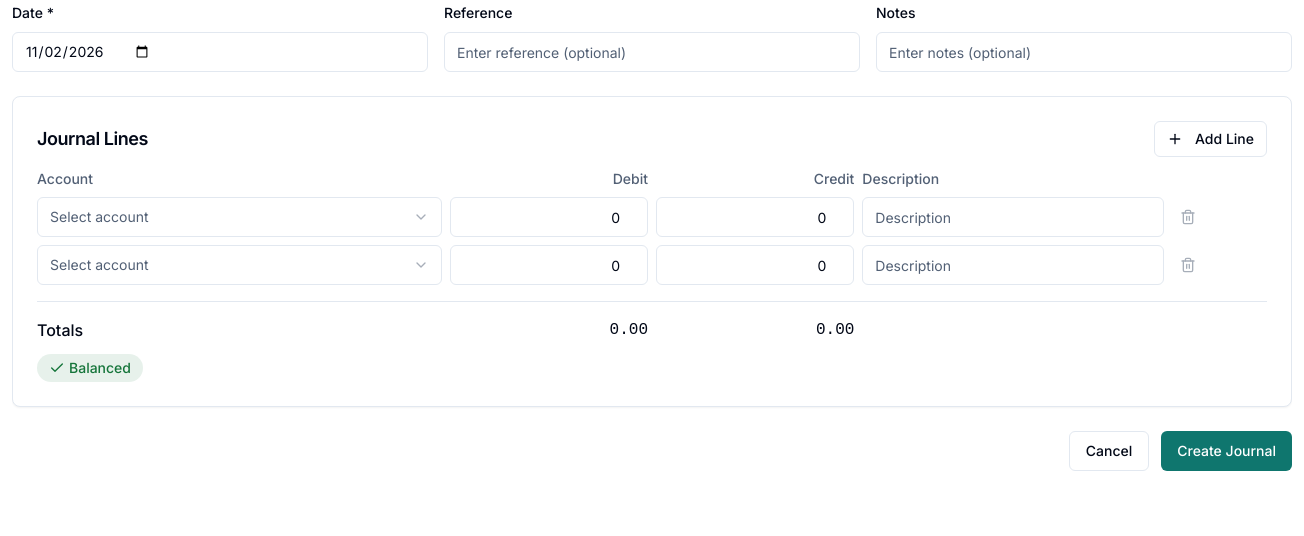
Test: JournalLinesEditor (journal and recurring template forms) › keeps two lines, clears the opposite side and shows the balance (journal)
Expected: the 1st button named "Remove journal line" is disabled, [1172,201,1204,233]
Expected: the 2nd button named "Remove journal line" is disabled, [1172,249,1204,281]
Replace the text in the 2nd number field with placeholder "0.00" with "40" at [755, 217], box [656,197,854,237]
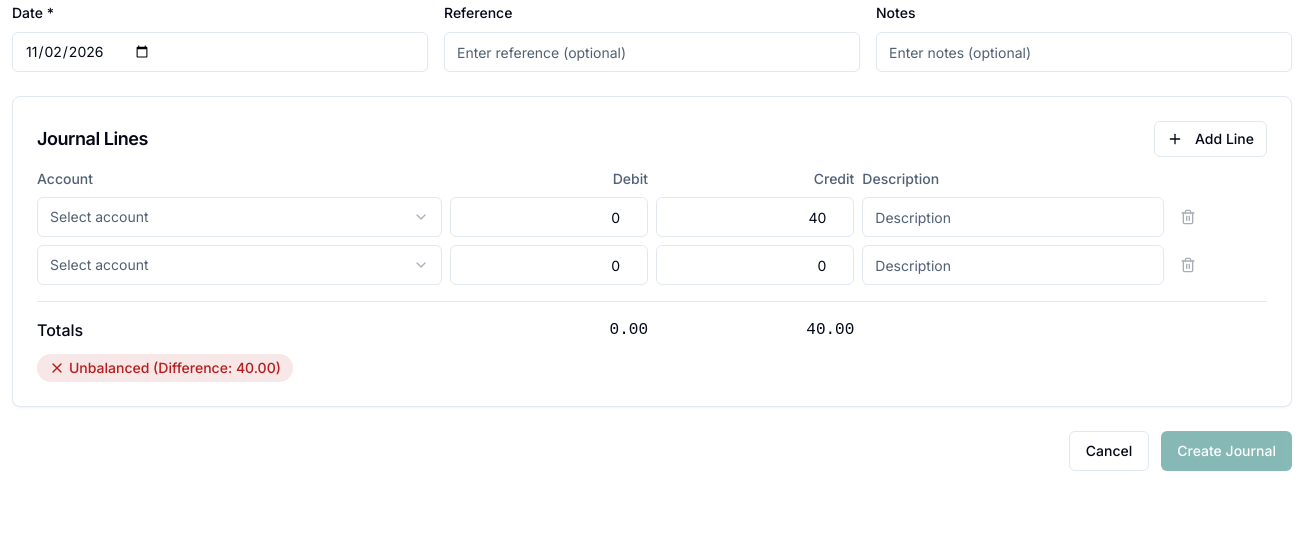
Replace the text in the 1st number field with placeholder "0.00" with "100" at [549, 217], box [450,197,648,237]
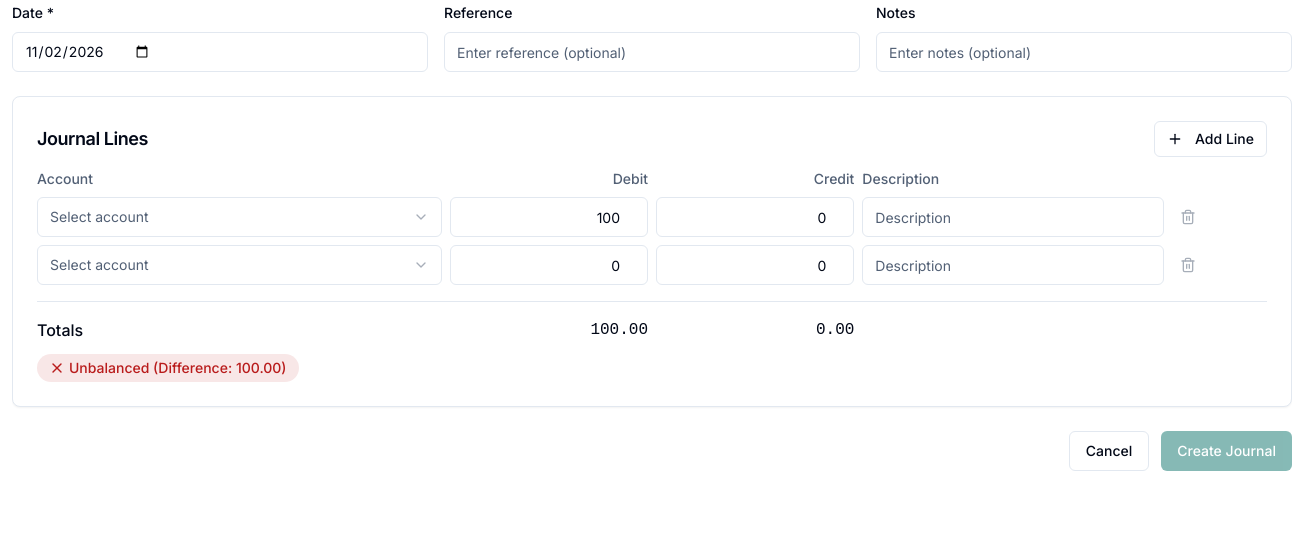
Expected: the 2nd number field with placeholder "0.00" holds "0", [656,197,854,237]
Replace the text in the 4th number field with placeholder "0.00" with "60" at [755, 265], box [656,245,854,285]
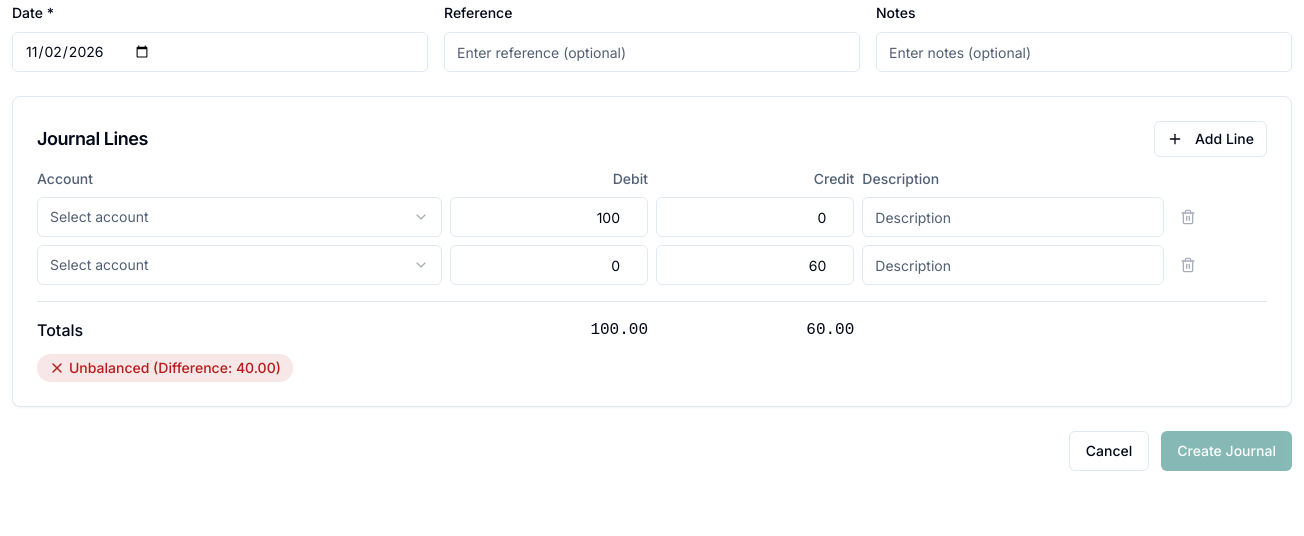
Expected: the text "Unbalanced (Difference: 40.00)" is shown, [37,354,293,382]
Replace the text in the 4th number field with placeholder "0.00" with "100" at [755, 265], box [656,245,854,285]
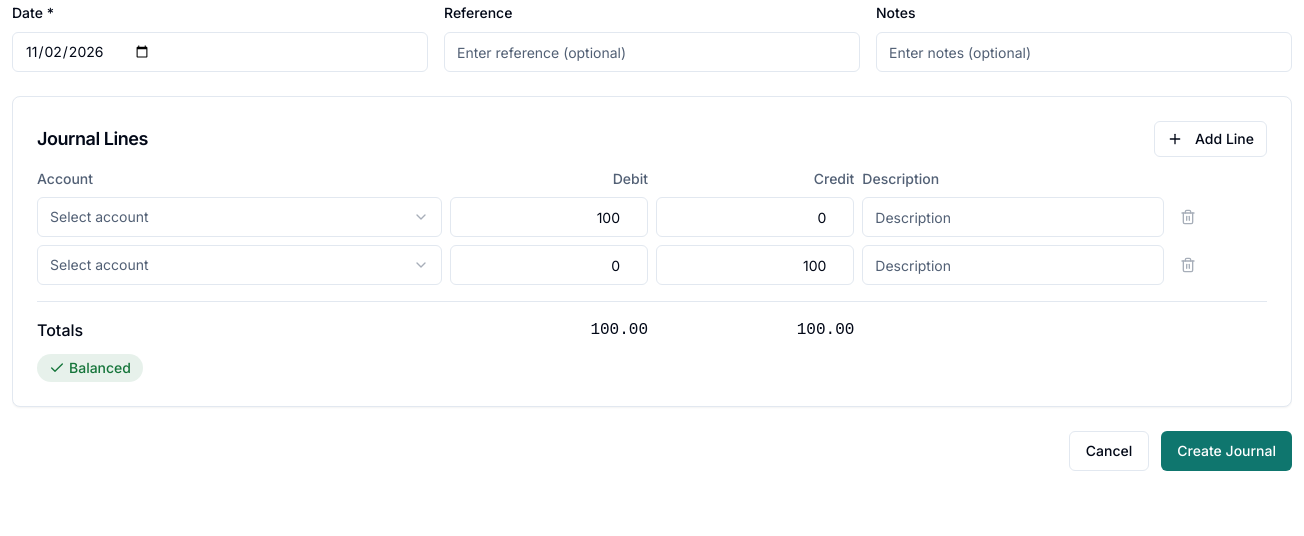
Expected: the 3rd number field with placeholder "0.00" holds "0", [450,245,648,285]
Expected: the text "Balanced" is shown, [37,354,143,382]
Click the button "Add Line" at [1210, 139], box [1154,121,1267,157]
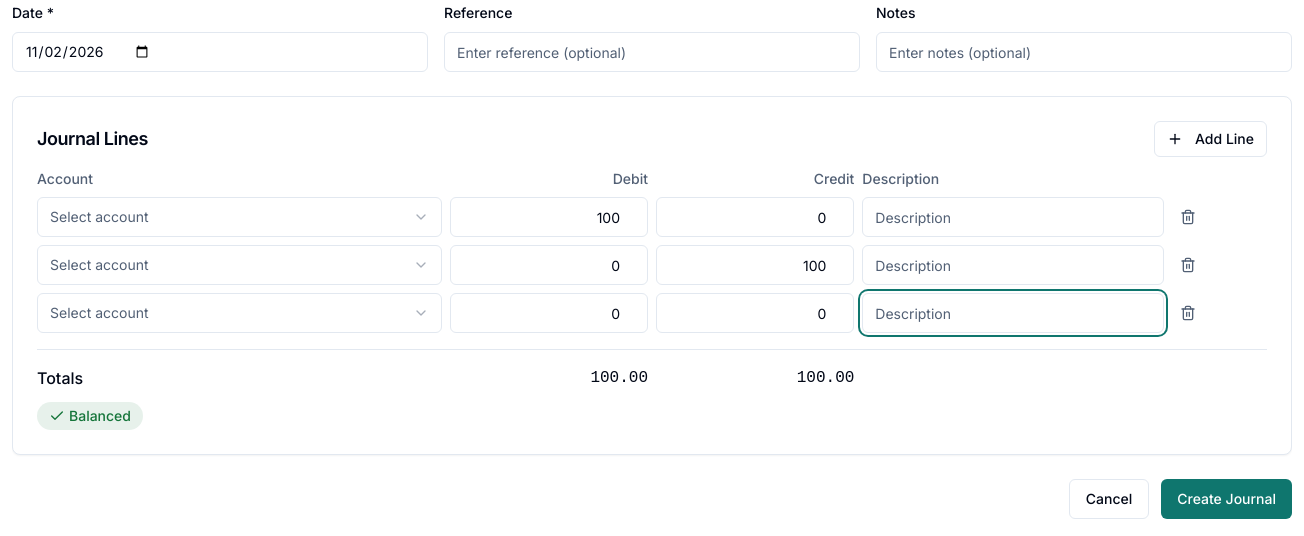
Expected: the number of number fields with placeholder "0.00" is 6, [450,197,648,237]; [656,197,854,237]; [450,245,648,285]; [656,245,854,285]; [450,293,648,333]; [656,293,854,333]
Expected: the 3rd button named "Remove journal line" is enabled, [1172,297,1204,329]
